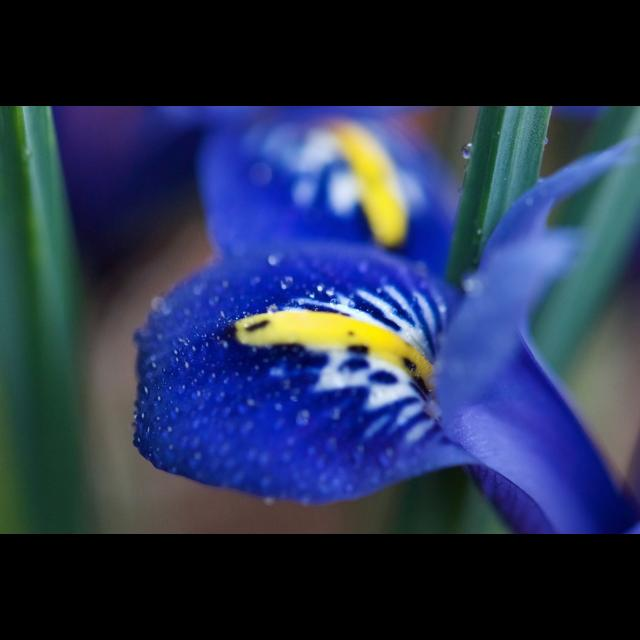Flower: (120, 106, 620, 534)
